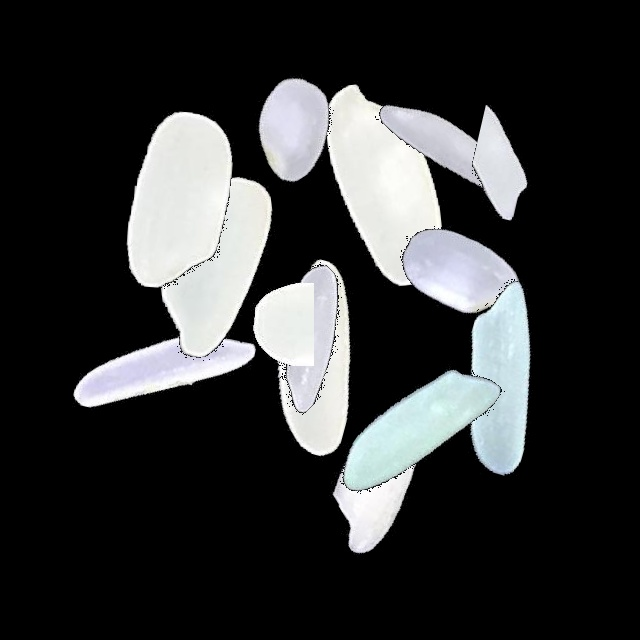Broken: (472, 43, 608, 293), (199, 376, 449, 463), (147, 283, 397, 366)
Full: (260, 58, 510, 308), (322, 23, 572, 273), (188, 232, 438, 482), (186, 214, 436, 464), (255, 360, 505, 610), (332, 143, 582, 393), (38, 247, 288, 497), (95, 143, 345, 393), (56, 74, 306, 324), (376, 249, 626, 499), (293, 307, 543, 557), (170, 0, 420, 250)
